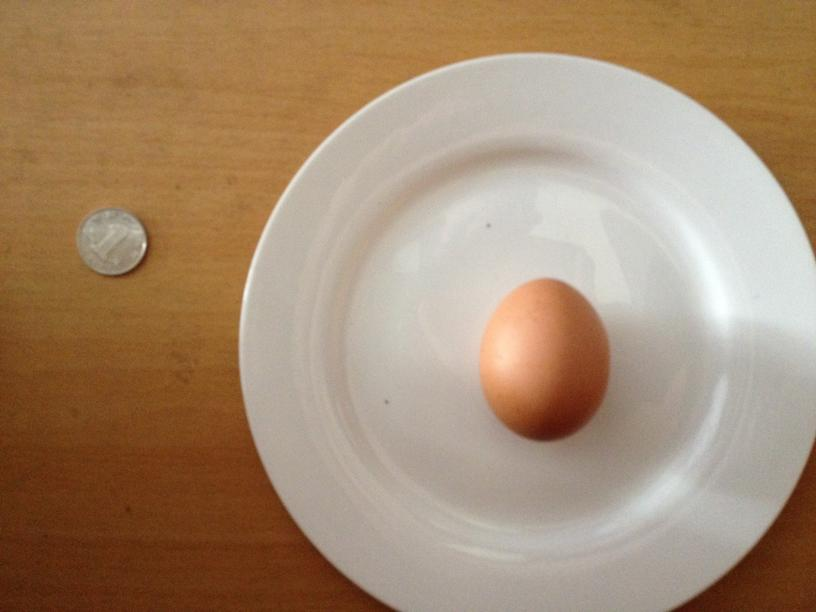coin: (78, 205, 148, 276)
egg: (473, 276, 610, 441)
